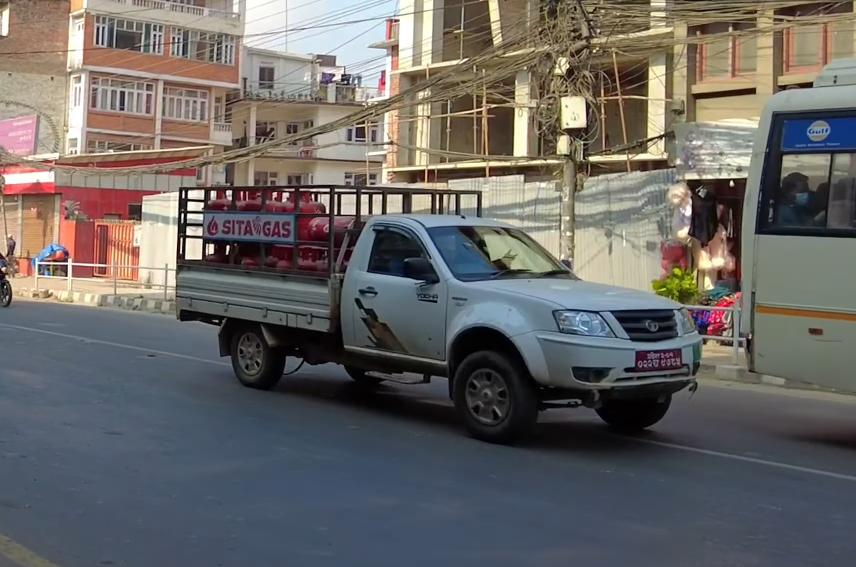bus: (732, 43, 856, 421)
transport_vehicle: (177, 167, 704, 442)
